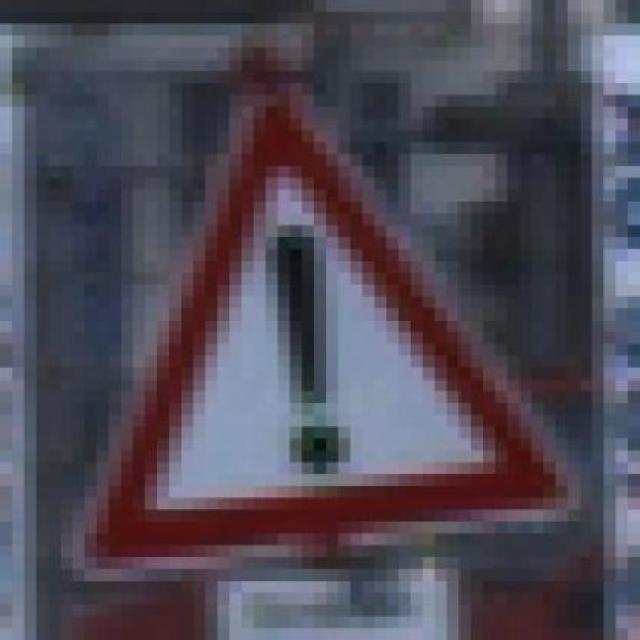Attention Please-: (60, 83, 580, 580)
